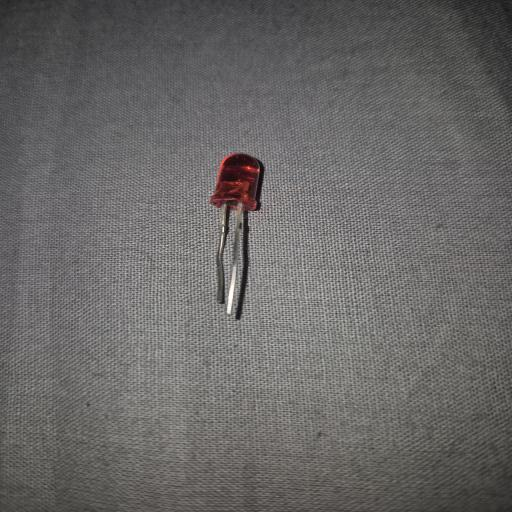led-diode: (209, 153, 265, 319)
